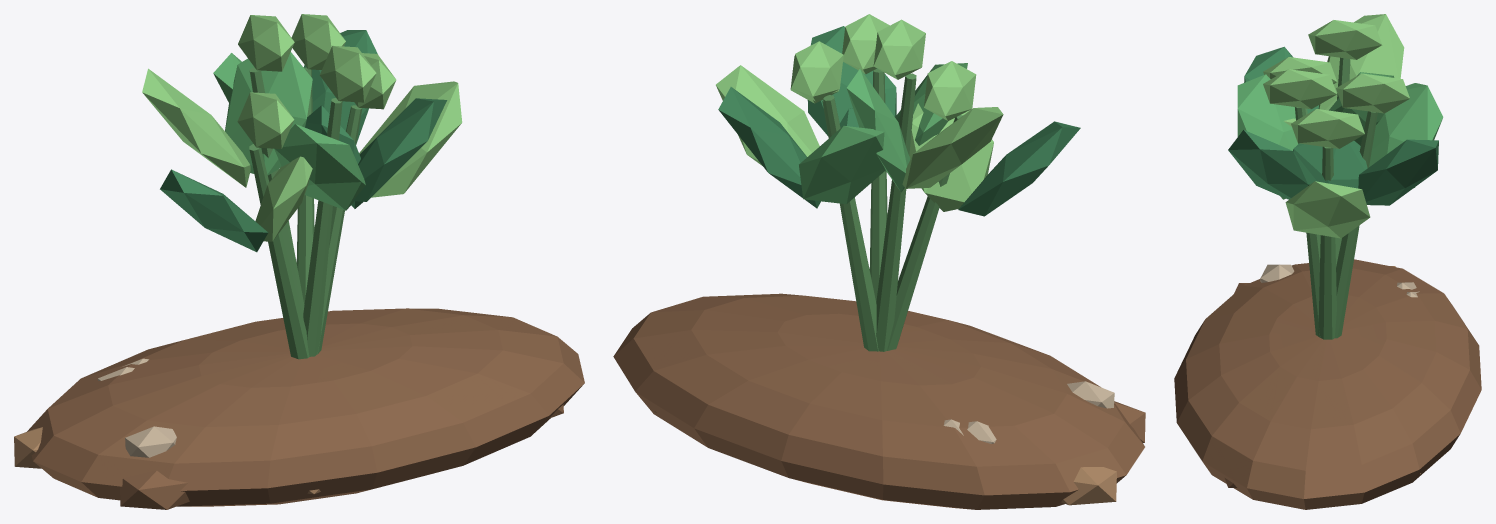
Rendered from (2)basil.fbx.
3 renders of one model, left to right at view 1: azimuth 30°, elevation 25°; view 2: azimuth 150°, elevation 25°; view 3: azimuth 270°, elevation 25°, orthographic. The views are drawn at different scales.
Parts seen in each view (by area): view 1: Basil_Level_2; view 2: Basil_Level_2; view 3: Basil_Level_2.
Part boxes in pixels (x1=…): Basil_Level_2: x1=14, y1=14, x2=584, y2=509; Basil_Level_2: x1=613, y1=14, x2=1145, y2=509; Basil_Level_2: x1=1174, y1=14, x2=1481, y2=509.
Bounding box in the file's own units: 283 × 230 × 158.
